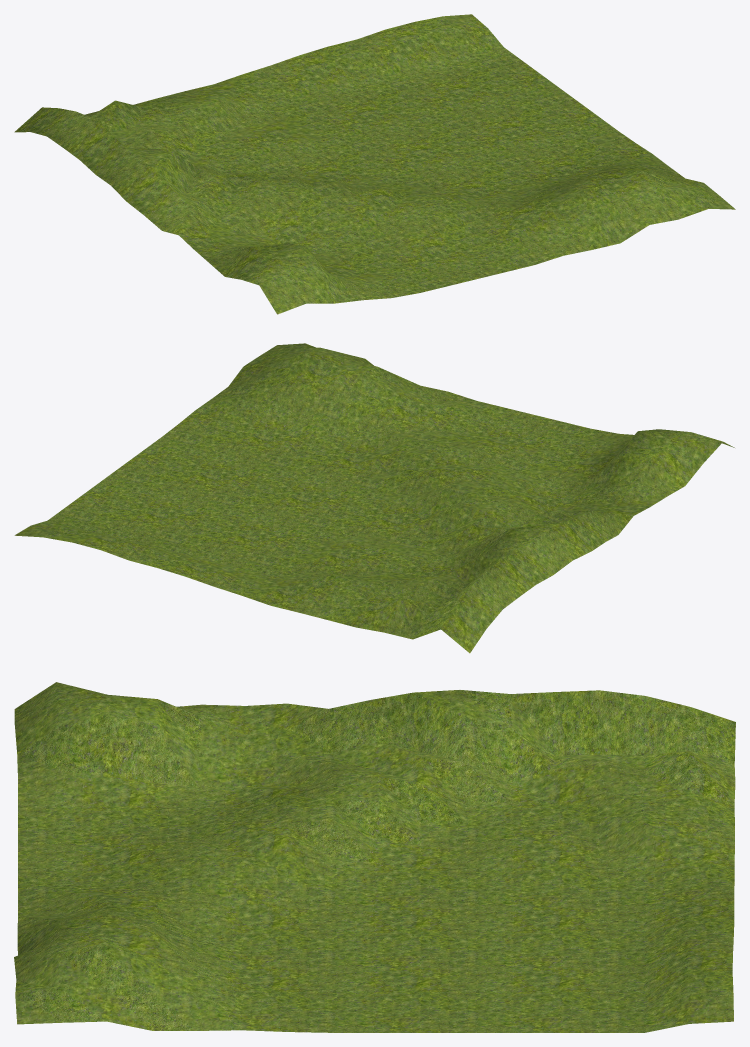
File: Floor.obj
3 renders of one model, top to bottom at view 1: azimuth 30°, elevation 25°; view 2: azimuth 150°, elevation 25°; view 3: azimuth 270°, elevation 25°, orthographic. The views are drawn at different scales.
Visible parts, largest first — view 1: Plane; view 2: Plane; view 3: Plane.
Part boxes in pixels (x1=…): Plane: x1=14, y1=14, x2=735, y2=314; Plane: x1=14, y1=343, x2=734, y2=653; Plane: x1=14, y1=682, x2=735, y2=1032.
Bounding box in the file's own units: 101 × 9.28 × 101.
Materials: 1 (1 with a texture image).
